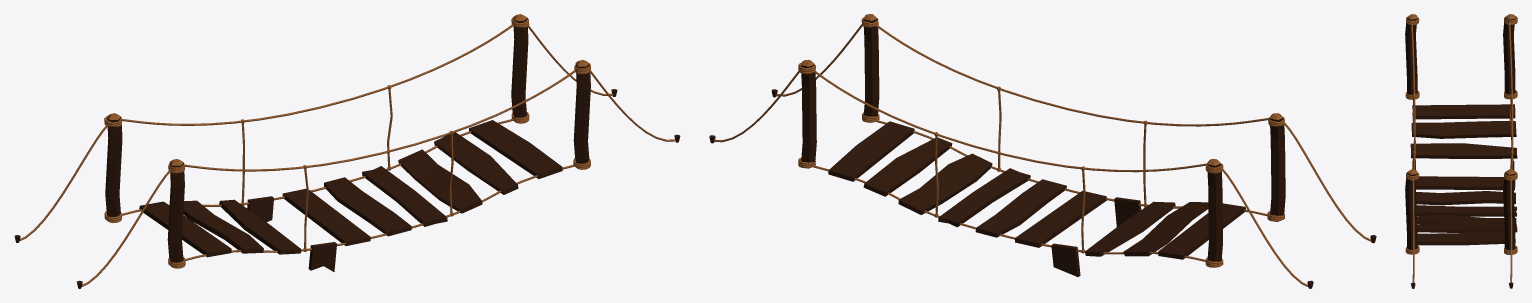
The model's file is bridge.obj.
The picture shows the model from 3 angles, left to right: view 1: azimuth 30°, elevation 25°; view 2: azimuth 150°, elevation 25°; view 3: azimuth 270°, elevation 25°; orthographic projection. The views are drawn at different scales.
Parts seen in each view (by area): view 1: Bridge1_Circle.007; view 2: Bridge1_Circle.007; view 3: Bridge1_Circle.007.
Part boxes in pixels (box(x1,y1,x2,y2)): Bridge1_Circle.007: box(14, 14, 680, 288); Bridge1_Circle.007: box(709, 14, 1376, 288); Bridge1_Circle.007: box(1405, 14, 1517, 288).
Bounding box in the file's own units: 18.55 × 4.41 × 3.83.
